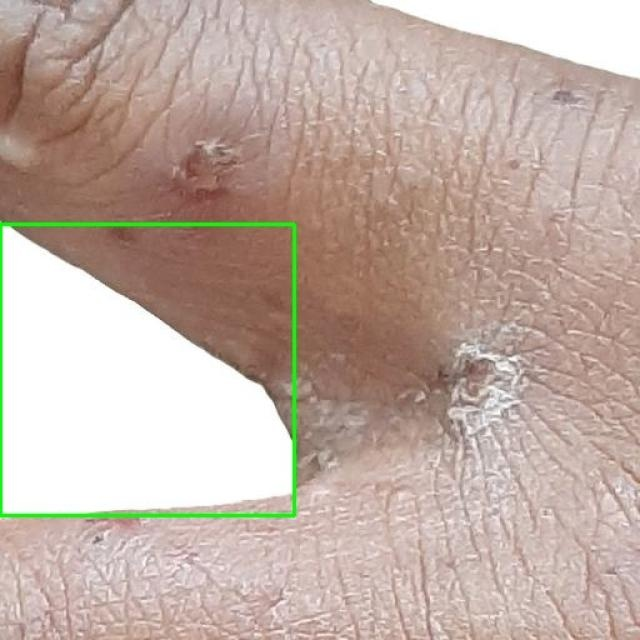Scabies: (0, 224, 294, 515)
